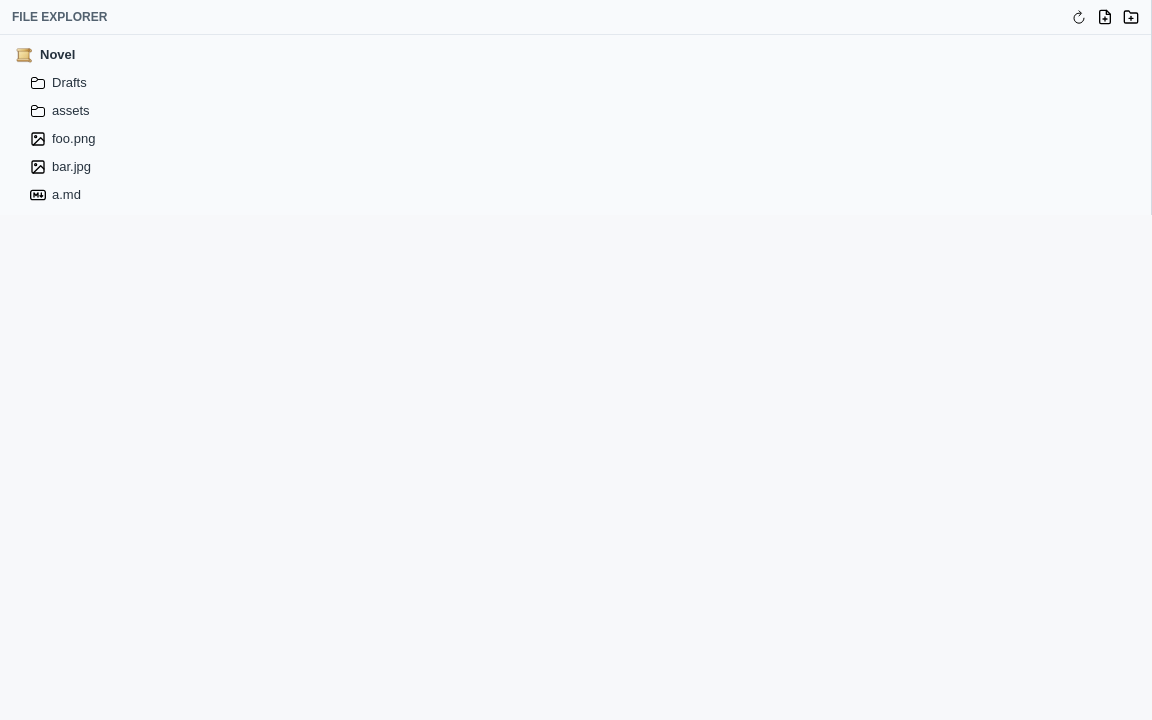
#414 P0-1 File Explorer image-file rename — C2 flow › F2 opens a rename dialog for a supported image file
The width and height of the screenshot is (1152, 720).
Click the list item "foo.png".
click(74, 138)  # box 6,125 -> 1145,153
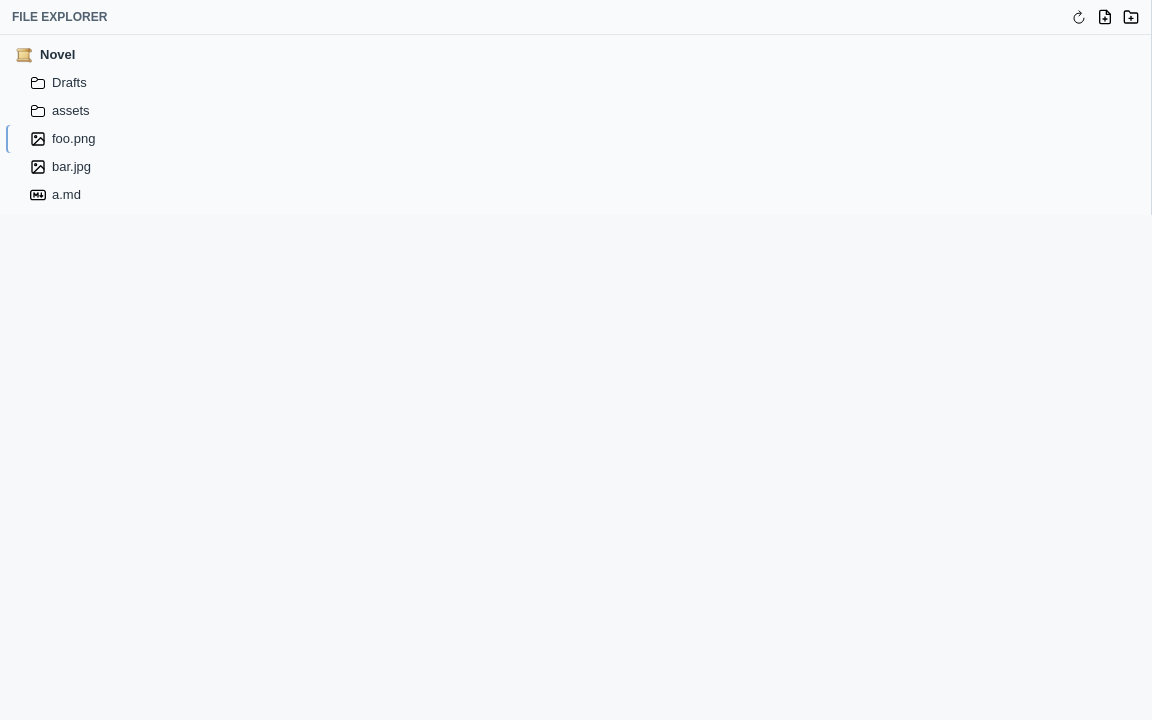
Press F2 in the element with class "fileExplorerList", box 0,35 -> 1151,215
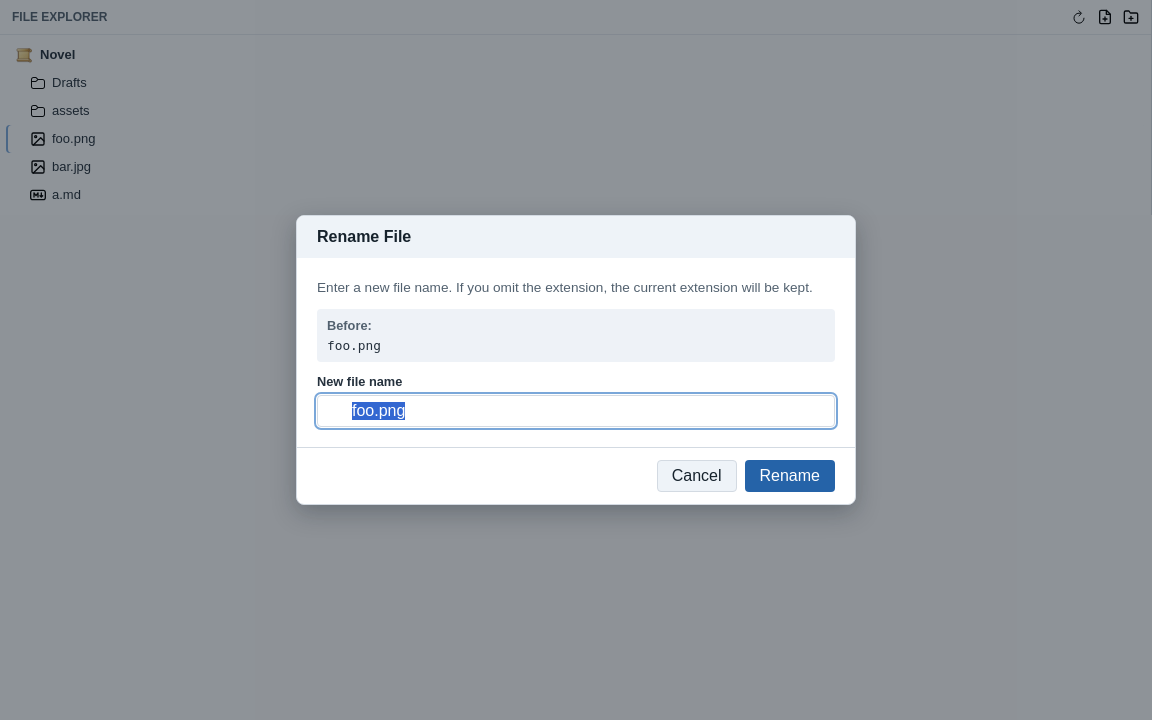
Expected: the field with class "nameInputDialogInput" is shown, 350,396 -> 826,426
